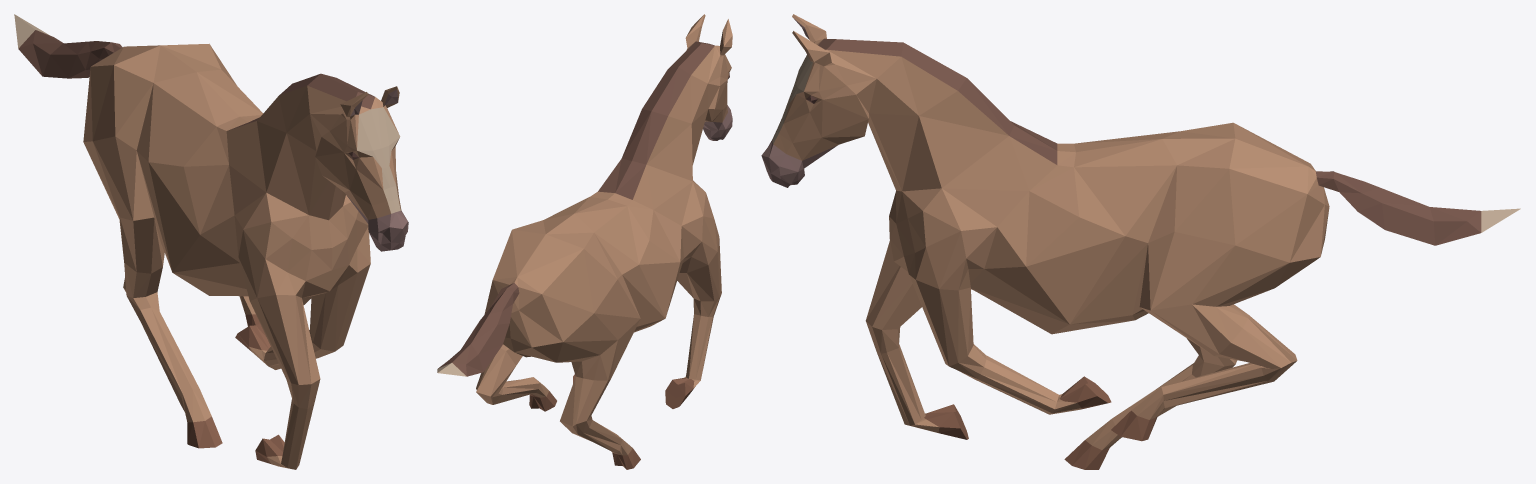
Rendered from Horse.glb.
3 renders of one model, left to right at view 1: azimuth 30°, elevation 25°; view 2: azimuth 150°, elevation 25°; view 3: azimuth 270°, elevation 25°, orthographic. The views are drawn at different scales.
Parts seen in each view (by area): view 1: mesh_0; view 2: mesh_0; view 3: mesh_0.
Part boxes in pixels (x1=…): mesh_0: x1=14, y1=14, x2=408, y2=469; mesh_0: x1=437, y1=14, x2=732, y2=469; mesh_0: x1=761, y1=14, x2=1520, y2=469.
Bounding box in the file's own units: 65.86 × 185 × 277.
